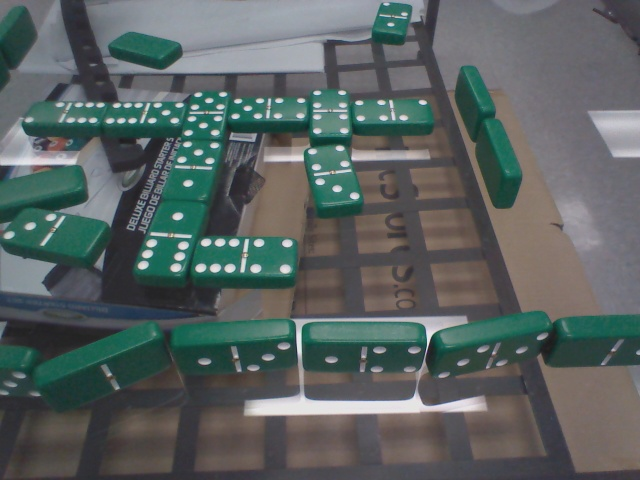A: (1, 170, 94, 220), (103, 25, 182, 74), (364, 1, 415, 49)
B: (4, 200, 109, 270), (129, 200, 197, 288), (190, 232, 296, 287), (301, 143, 366, 215), (164, 135, 225, 203), (19, 97, 103, 143), (351, 96, 438, 139), (226, 93, 311, 134), (103, 99, 185, 140), (303, 87, 357, 148), (181, 86, 225, 144)
C: (1, 6, 44, 67)
D: (463, 118, 531, 216), (449, 62, 502, 141)
E: (26, 339, 171, 409), (299, 313, 431, 383), (172, 315, 302, 383), (430, 316, 550, 385), (551, 309, 640, 374)
